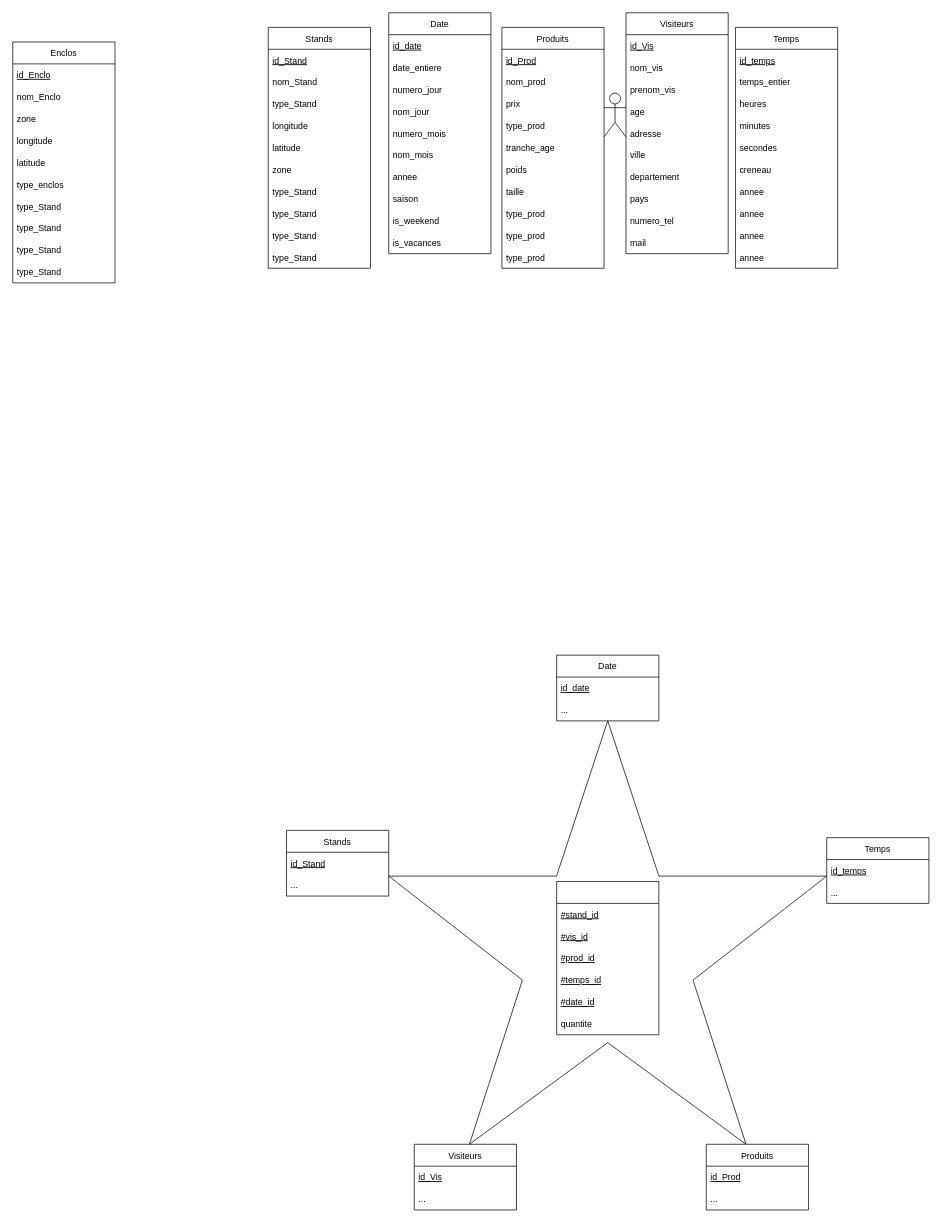
Image size: 942x1223. Some labels were removed from this diagram. The box of each missing label's shape, as (x1, y1, x2, y2) in pixels:
Actor: (603, 92, 626, 137)
Ventes: (556, 881, 659, 1035)
